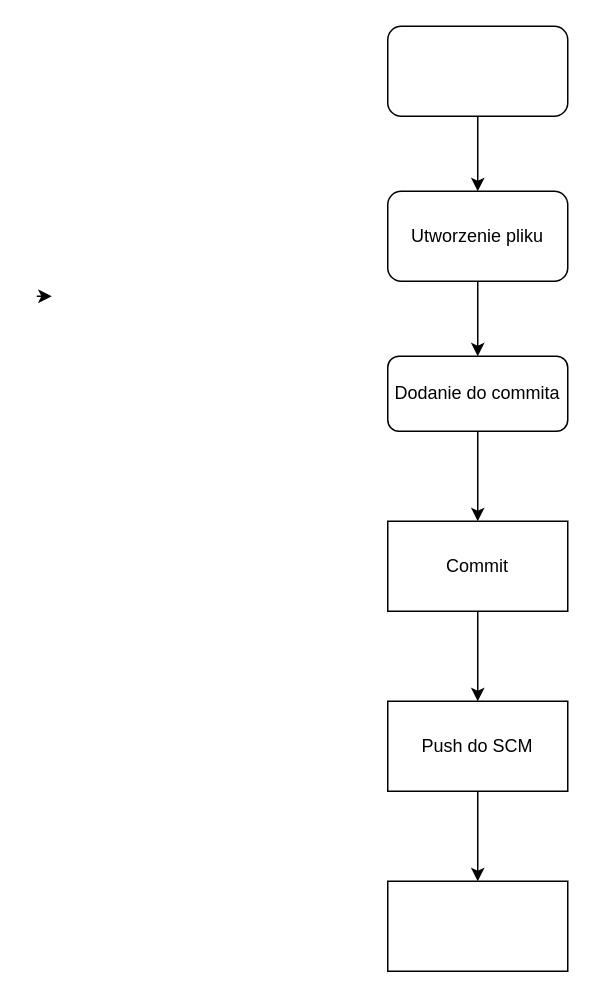
The diagram is 594 pixels wide and 998 high, and some of its shapes have lost their labels. Here are the shapes that lost their labels. From the top down, the centre of each, then its label:
[477,70]: Lokalne repo
[477,925]: SCM
